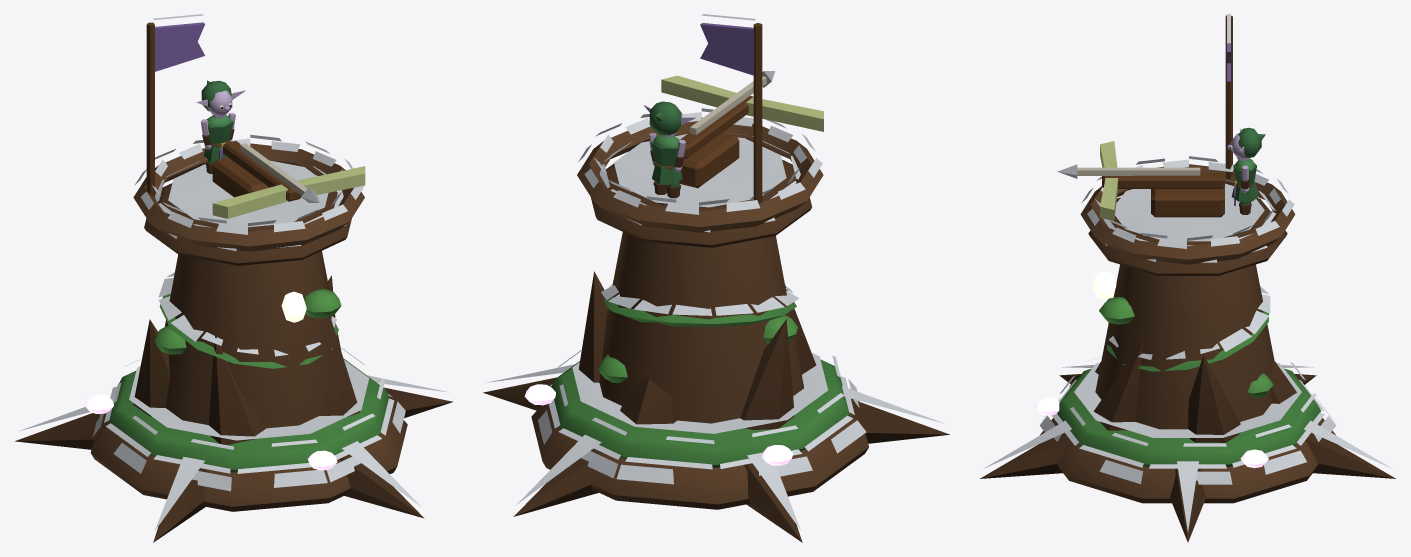
File: sylvestres-6.glb
3 renders of one model, left to right at view 1: azimuth 30°, elevation 25°; view 2: azimuth 150°, elevation 25°; view 3: azimuth 270°, elevation 25°, orthographic. The views are drawn at different scales.
Visible parts, largest first — view 1: sylvestres_6_peint, Tourelle_peint, Crane_peint, sylvestres_6_lueur, Buste_peint, Lanterne; view 2: sylvestres_6_peint, Tourelle_peint, Buste_peint, sylvestres_6_lueur, Crane_peint; view 3: sylvestres_6_peint, Tourelle_peint, Crane_peint, sylvestres_6_lueur, Buste_peint, Lanterne.
Part boxes in pixels (bbox=[...]): sylvestres_6_peint: bbox=[15, 14, 453, 542]; Tourelle_peint: bbox=[212, 141, 365, 218]; Crane_peint: bbox=[196, 80, 245, 115]; sylvestres_6_lueur: bbox=[84, 350, 341, 470]; Buste_peint: bbox=[204, 115, 233, 161]; Lanterne: bbox=[281, 291, 306, 322]; sylvestres_6_peint: bbox=[483, 14, 949, 542]; Tourelle_peint: bbox=[661, 71, 823, 188]; Buste_peint: bbox=[651, 135, 682, 184]; sylvestres_6_lueur: bbox=[524, 384, 793, 465]; Crane_peint: bbox=[644, 101, 696, 135]; sylvestres_6_peint: bbox=[980, 14, 1395, 542]; Tourelle_peint: bbox=[1057, 141, 1224, 220]; Crane_peint: bbox=[1227, 127, 1265, 158]; sylvestres_6_lueur: bbox=[1034, 397, 1268, 468]; Buste_peint: bbox=[1231, 158, 1258, 205]; Lanterne: bbox=[1092, 271, 1116, 299].
Bounding box in the file's own units: 0.9692 × 1.09 × 1.02.
